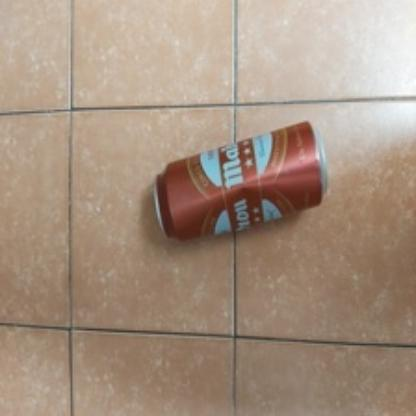Can: (154, 117, 328, 241)
